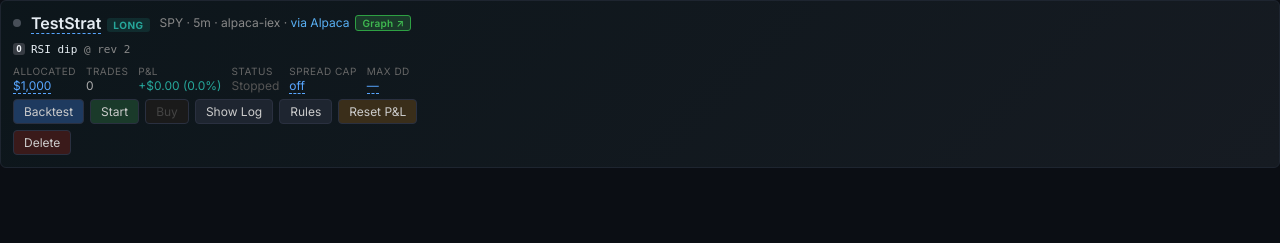
Test: BotCard Rules button (F454) › shows a plain error when the load fails
Step 1. Click the button with test id "botcard-rules-btn" → x=306, y=112, box [279,99,332,124]
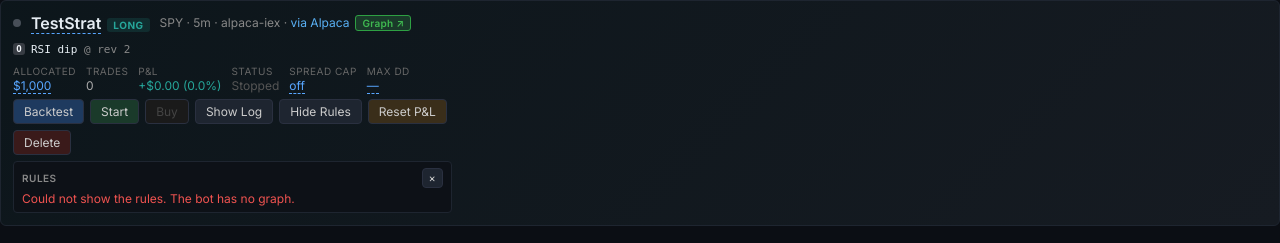
Check: the message with test id "botcard-rules-error" reads "Could not show the rules. The bot has no graph.", box [22,191,295,206]
